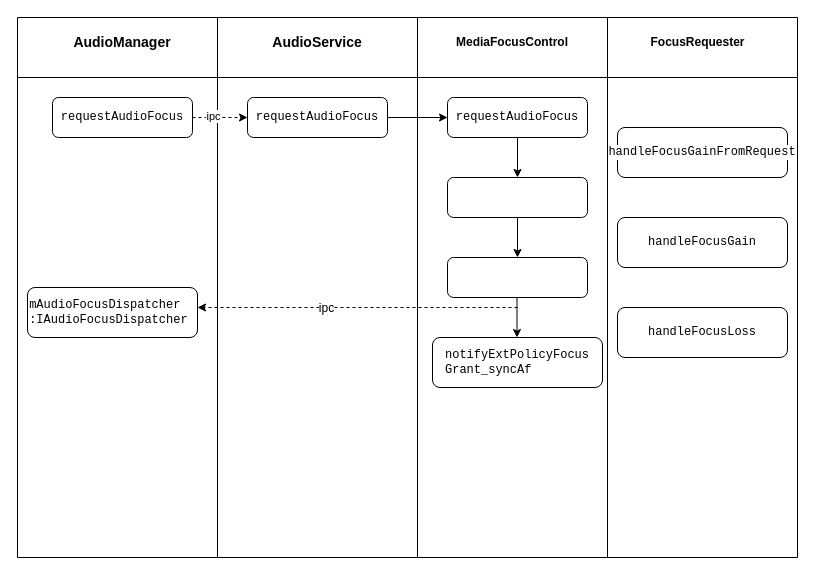
Image size: 816x576. Some labels were removed from this diagram. Here are the shapes that lost their labels. From the top down, the box of each, then its label:
(446, 176, 588, 218): removeFocusStackEntry
(446, 256, 588, 298): mFocusStack.push(nfr)
